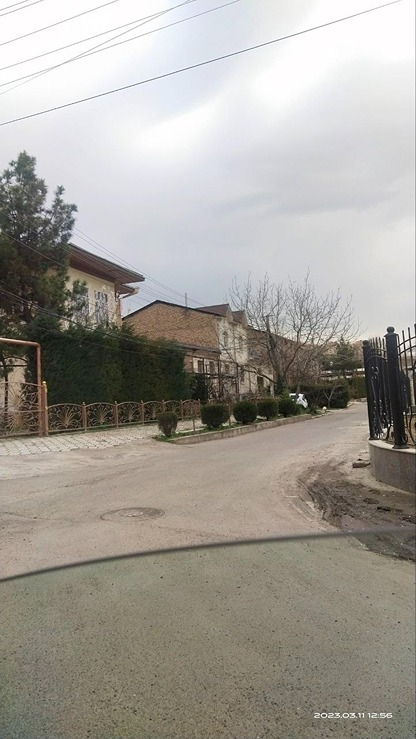tree: (0, 144, 83, 332), (223, 279, 351, 391)
